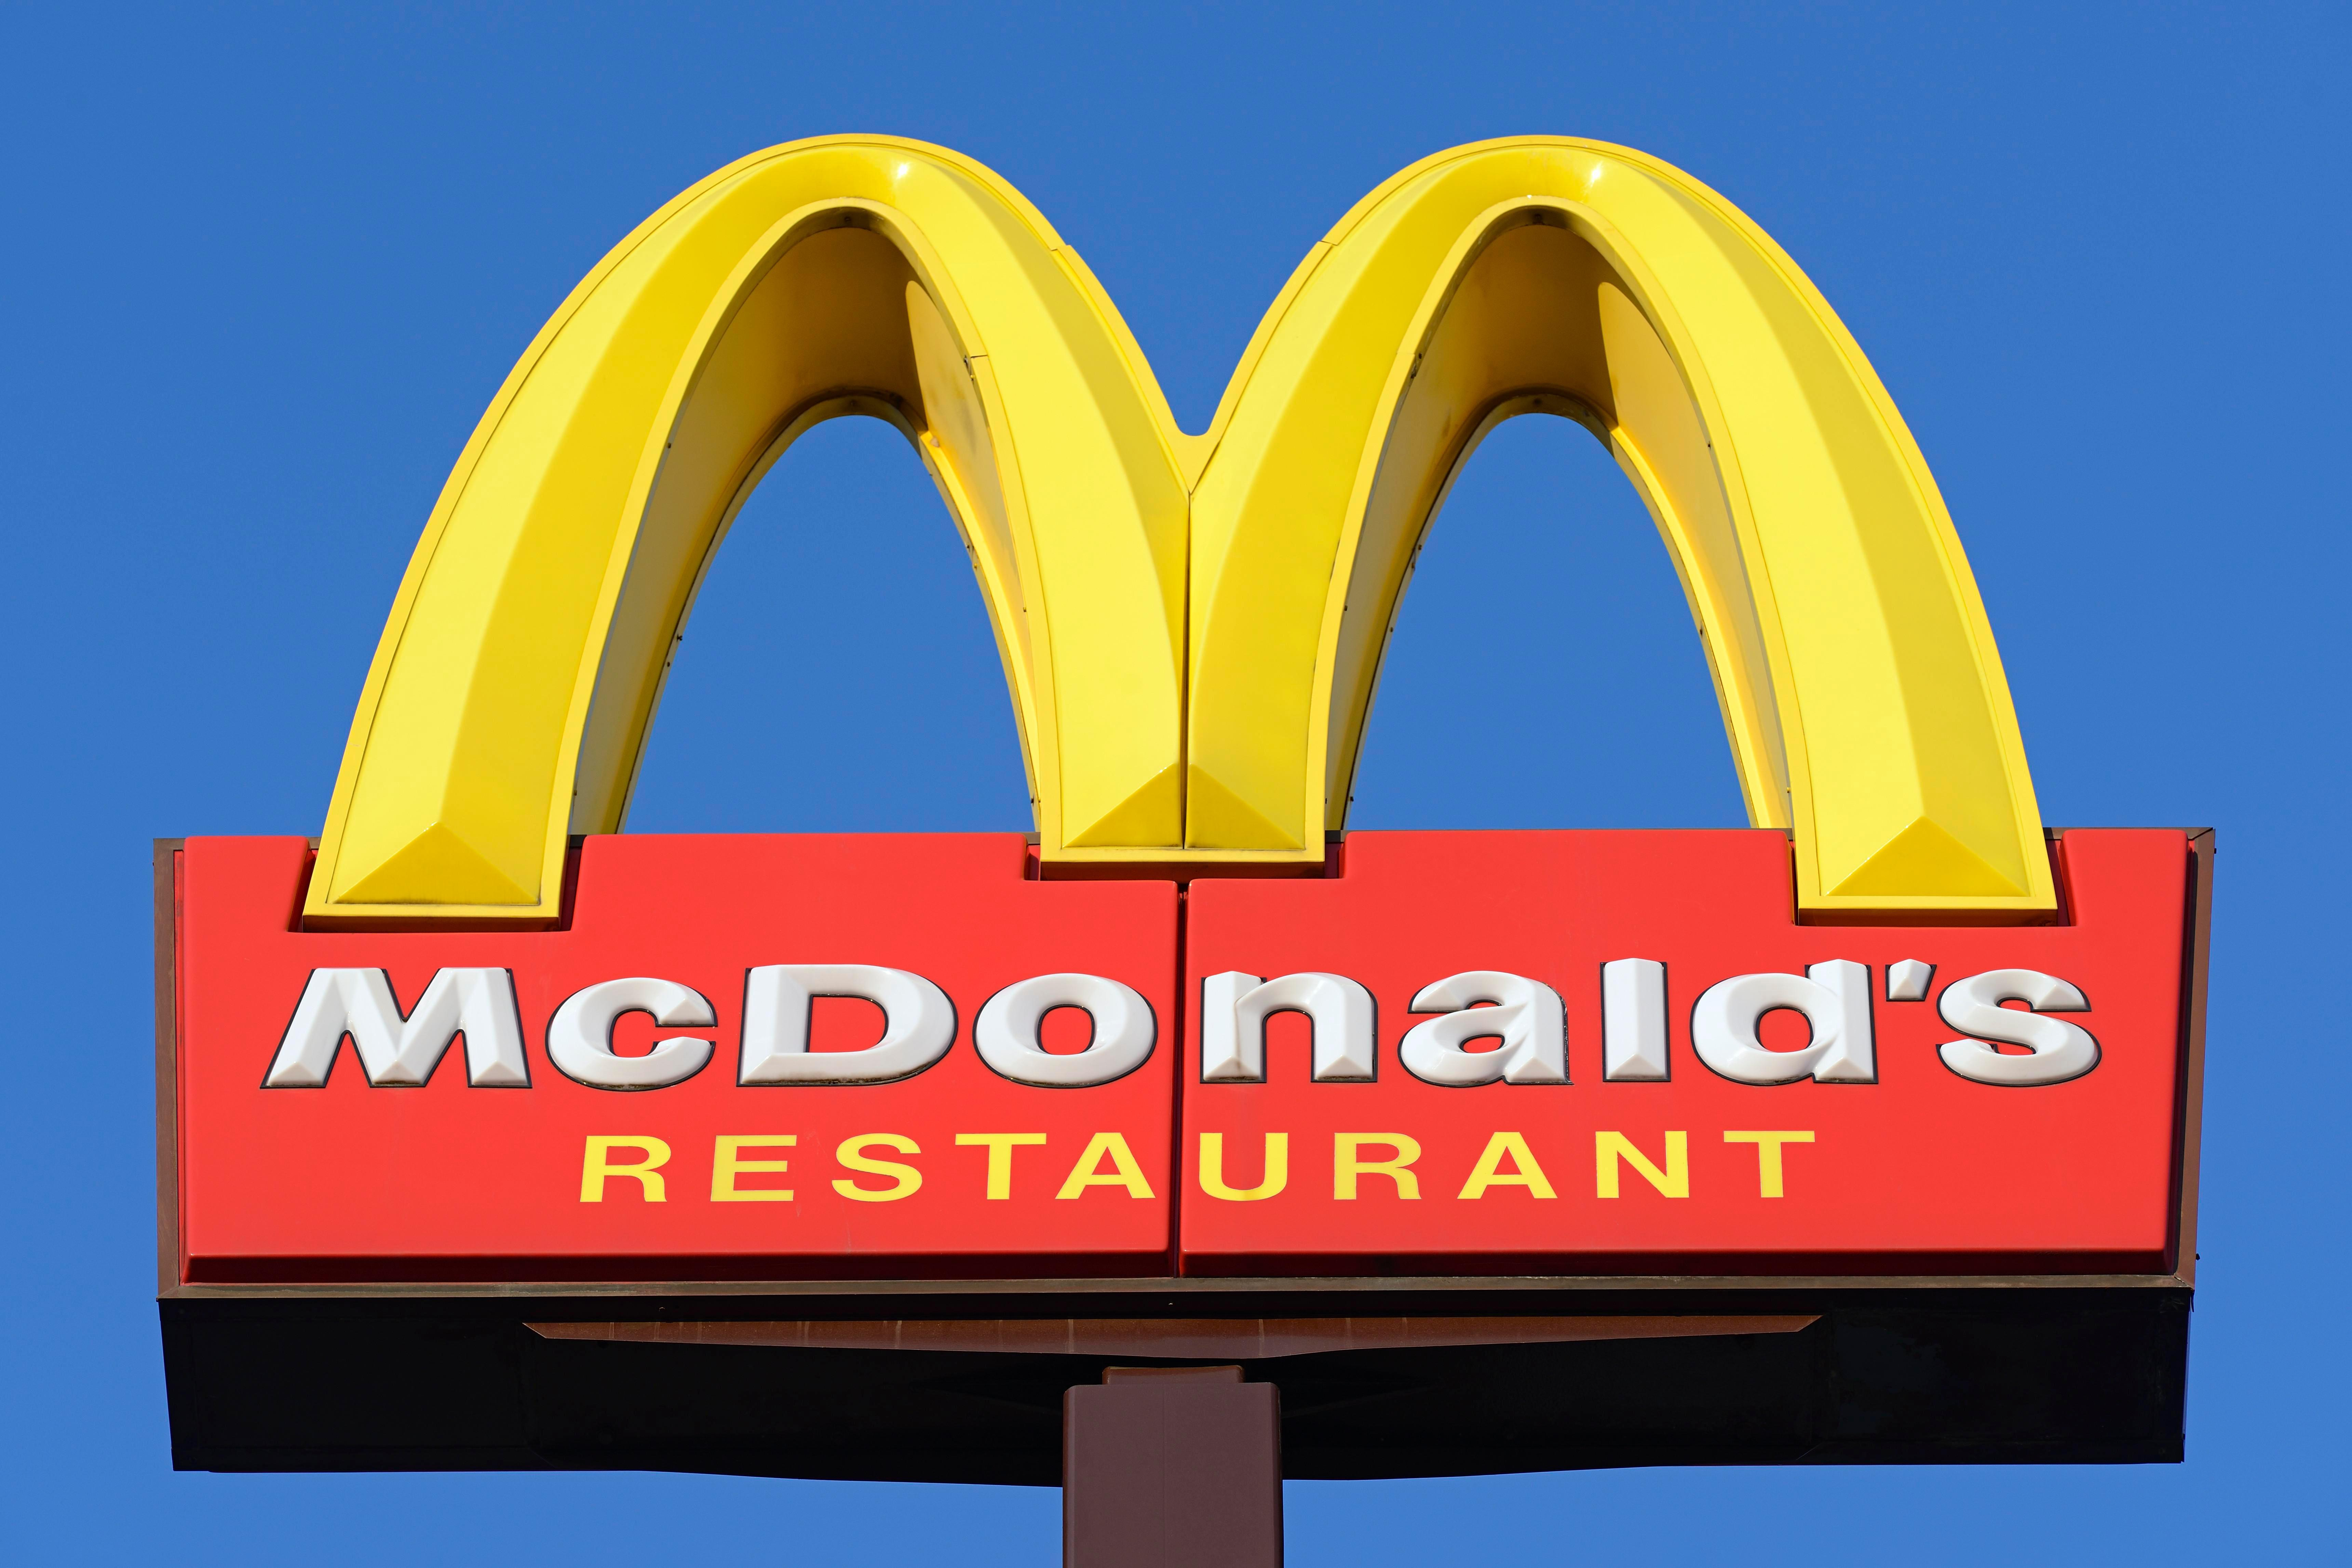mcdonalds: (303, 128, 2067, 919)
